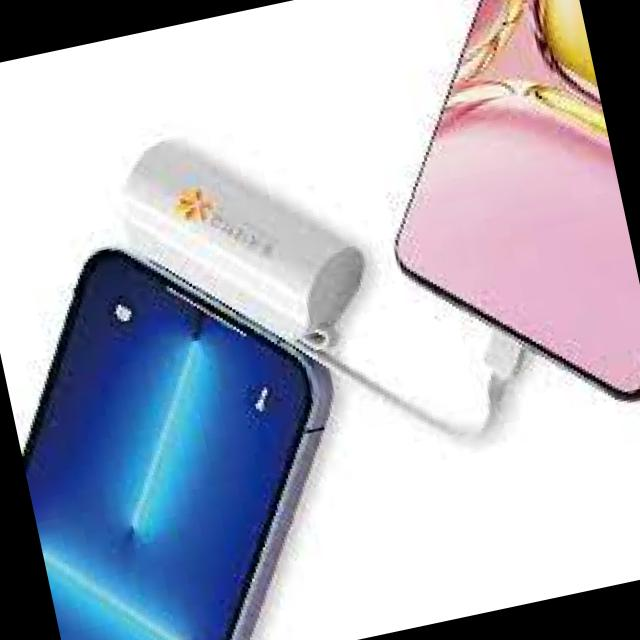power_bank: (107, 104, 381, 375)
